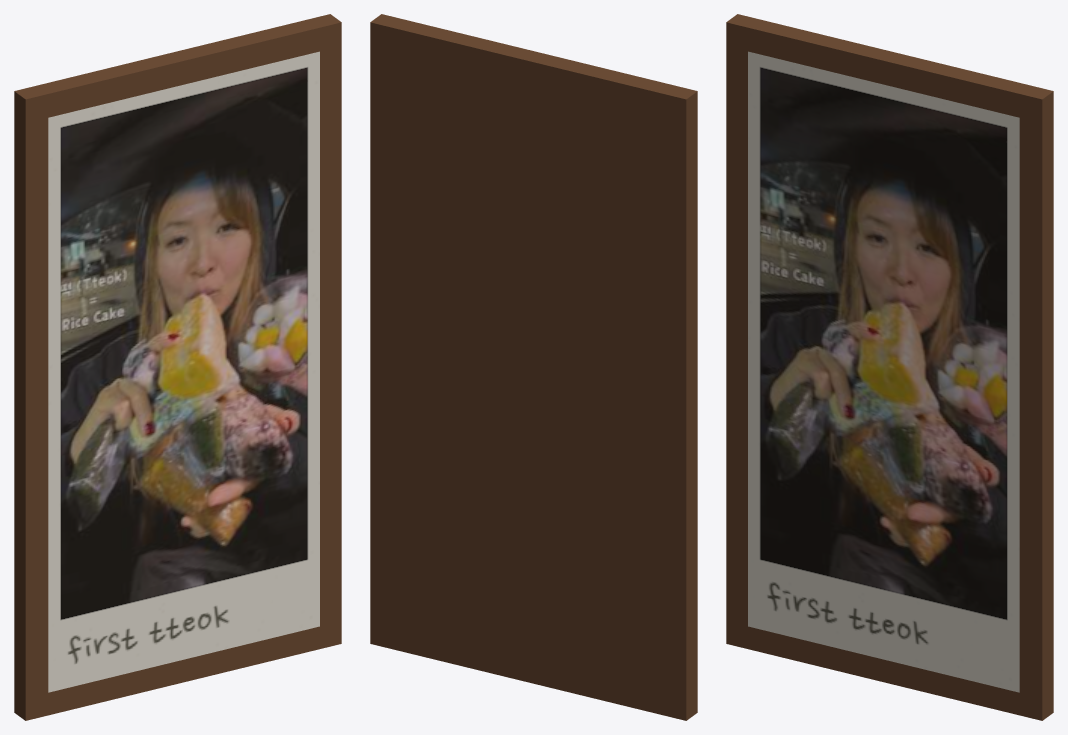
File: frame.glb
3 renders of one model, left to right at view 1: azimuth 30°, elevation 25°; view 2: azimuth 150°, elevation 25°; view 3: azimuth 330°, elevation 25°, orthographic.
Parts seen in each view (by area): view 1: frame; view 2: frame; view 3: frame.
Boxes of the visible parts, bbox=[...] form: frame: bbox=[14, 14, 341, 720]; frame: bbox=[370, 14, 697, 720]; frame: bbox=[726, 14, 1053, 720].
Bounding box in the file's own units: 0.64 × 1.2 × 0.042.
Materials: 2 (1 with a texture image).
